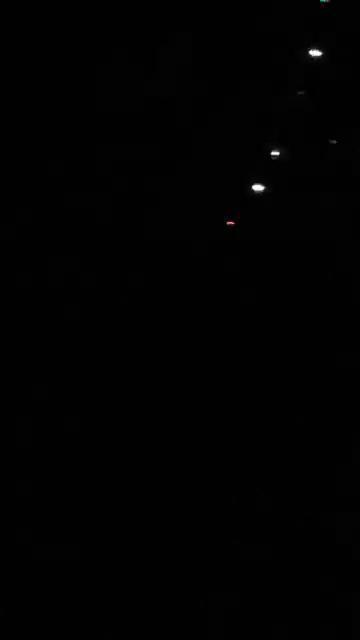Plane: (210, 9, 360, 235)
